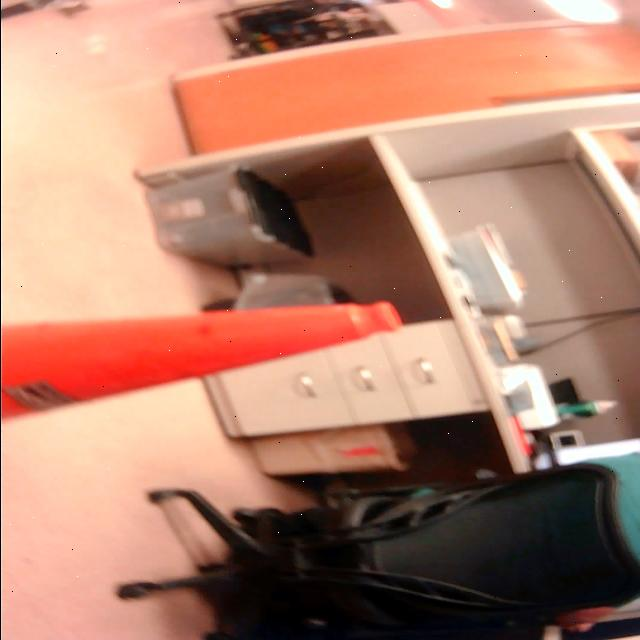traffic cone: (1, 298, 413, 432)
